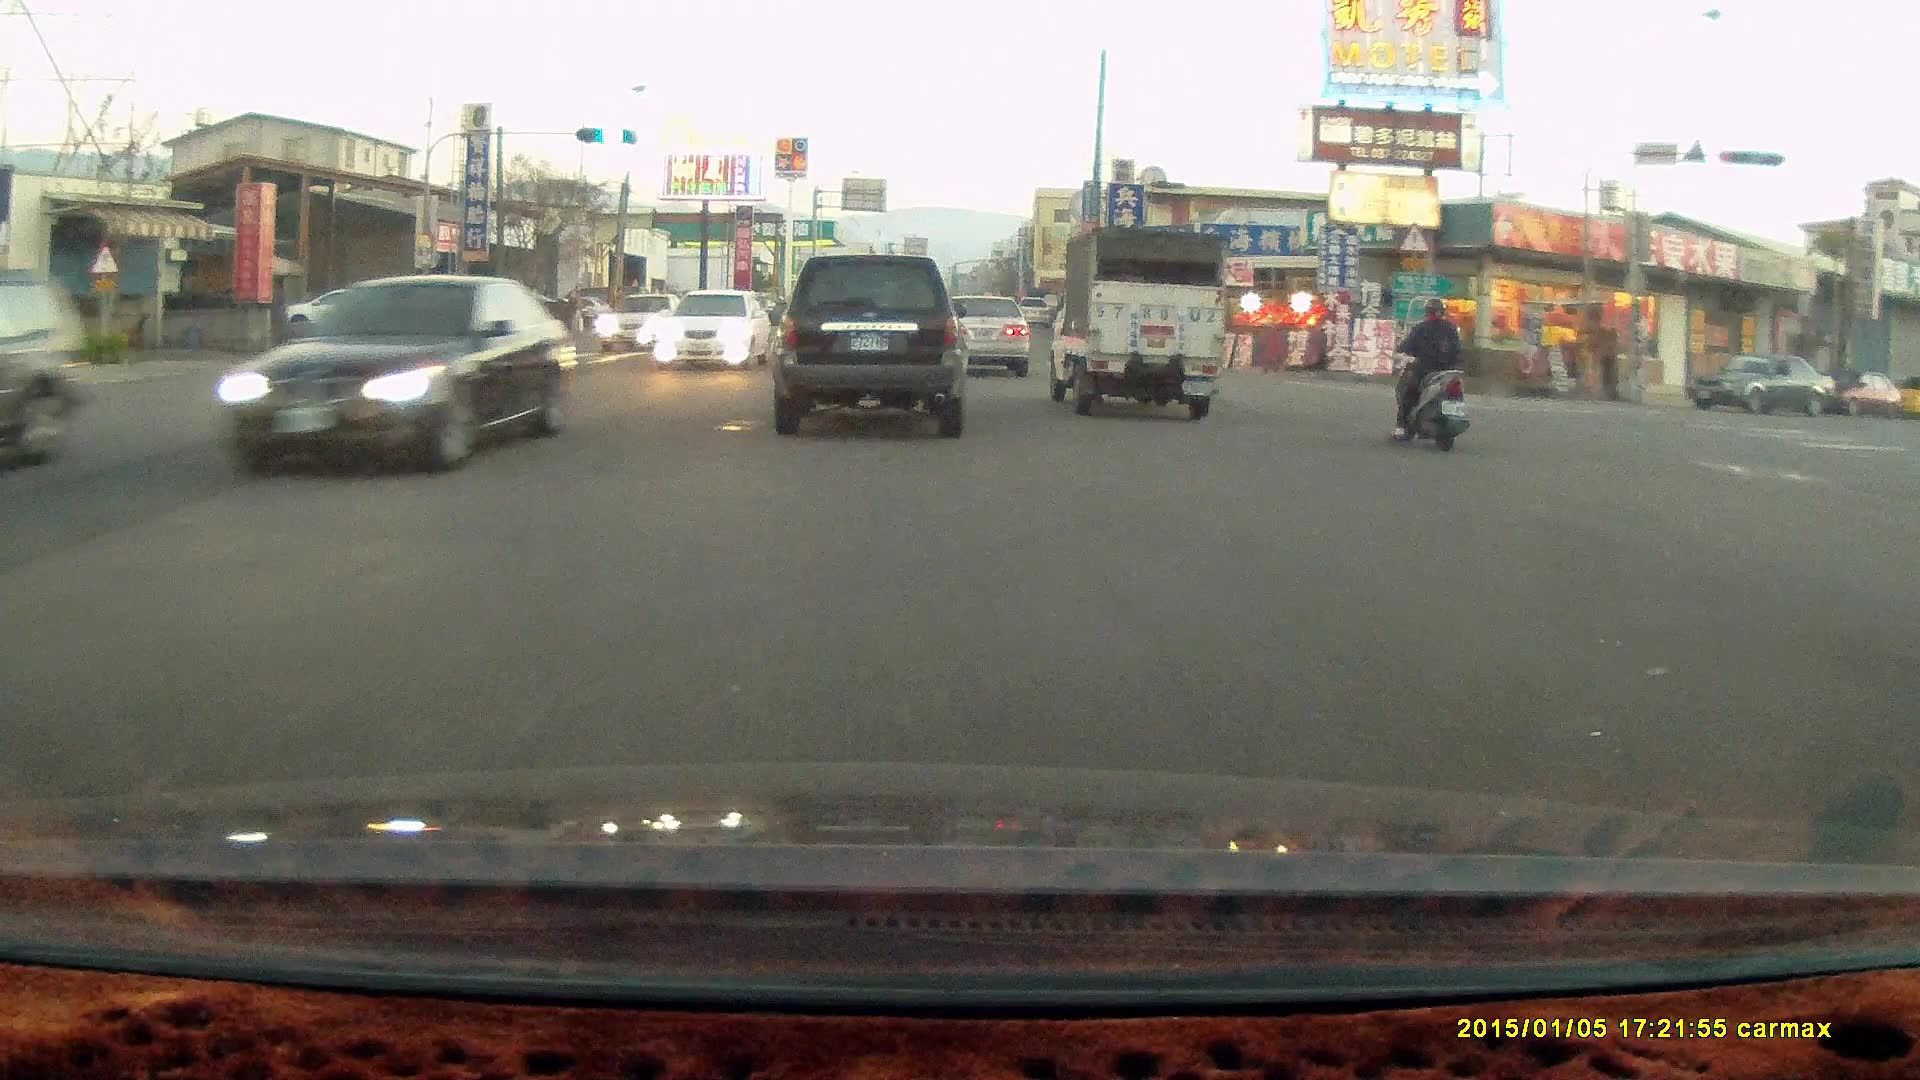rider: (1385, 292, 1471, 453)
vehicle: (221, 275, 574, 481), (767, 255, 969, 440), (1040, 227, 1225, 421), (1, 268, 103, 471), (384, 285, 534, 371), (653, 288, 772, 374), (1682, 354, 1838, 420), (927, 290, 1031, 378), (939, 296, 1032, 380), (289, 286, 412, 338), (599, 293, 686, 361), (1815, 373, 1904, 422)
